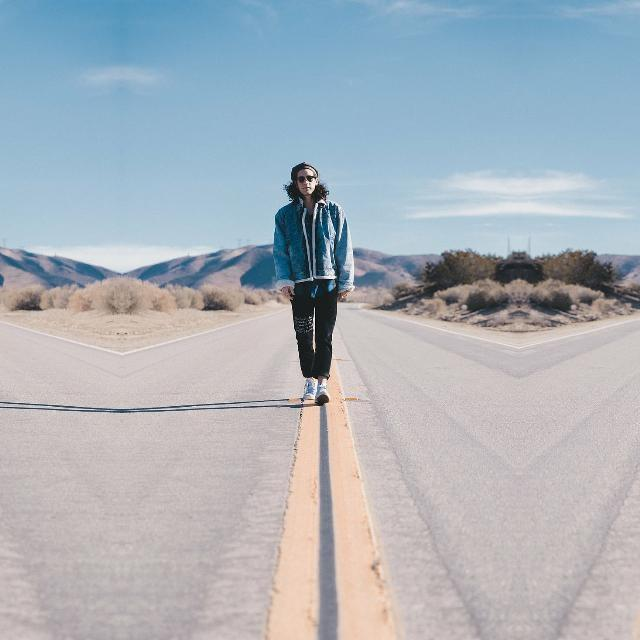person: (264, 150, 360, 406)
